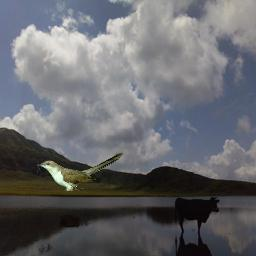Cuckoo: (37, 152, 123, 191)
